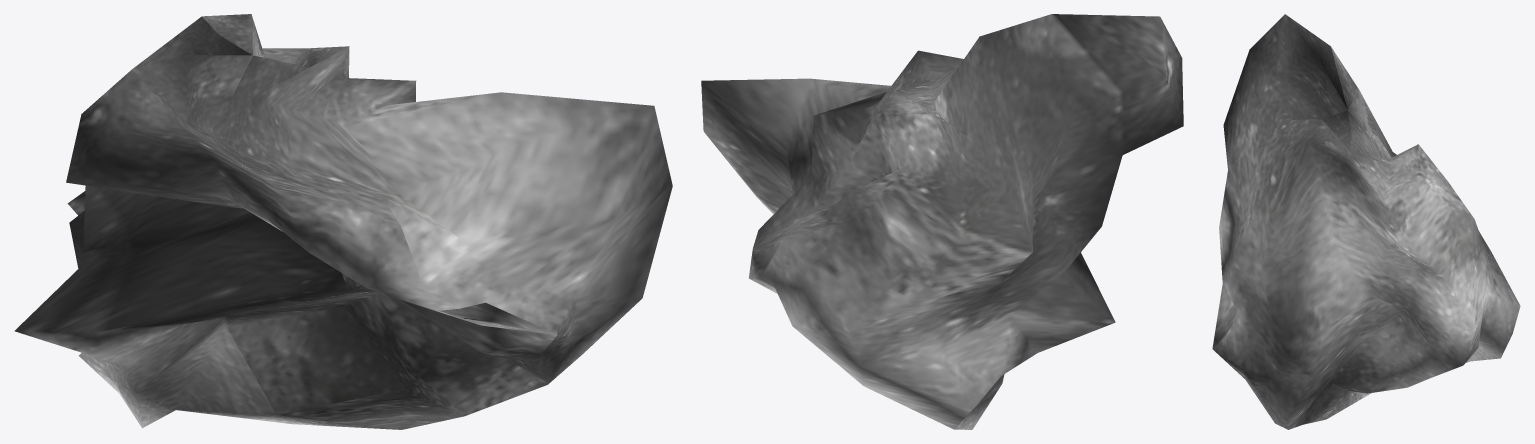
The model's file is asteroid_lowpoly.FBX.
3 renders of one model, left to right at view 1: azimuth 30°, elevation 25°; view 2: azimuth 150°, elevation 25°; view 3: azimuth 270°, elevation 25°, orthographic. The views are drawn at different scales.
Parts seen in each view (by area): view 1: GeoSphere001; view 2: GeoSphere001; view 3: GeoSphere001.
Boxes of the visible parts, x1,y1,x2,y2 form: GeoSphere001: [14, 14, 672, 429]; GeoSphere001: [701, 14, 1183, 429]; GeoSphere001: [1212, 14, 1520, 429].
Size of the model in its own units: 152 by 113 by 98.93.
Materials: 1 (1 with a texture image).
